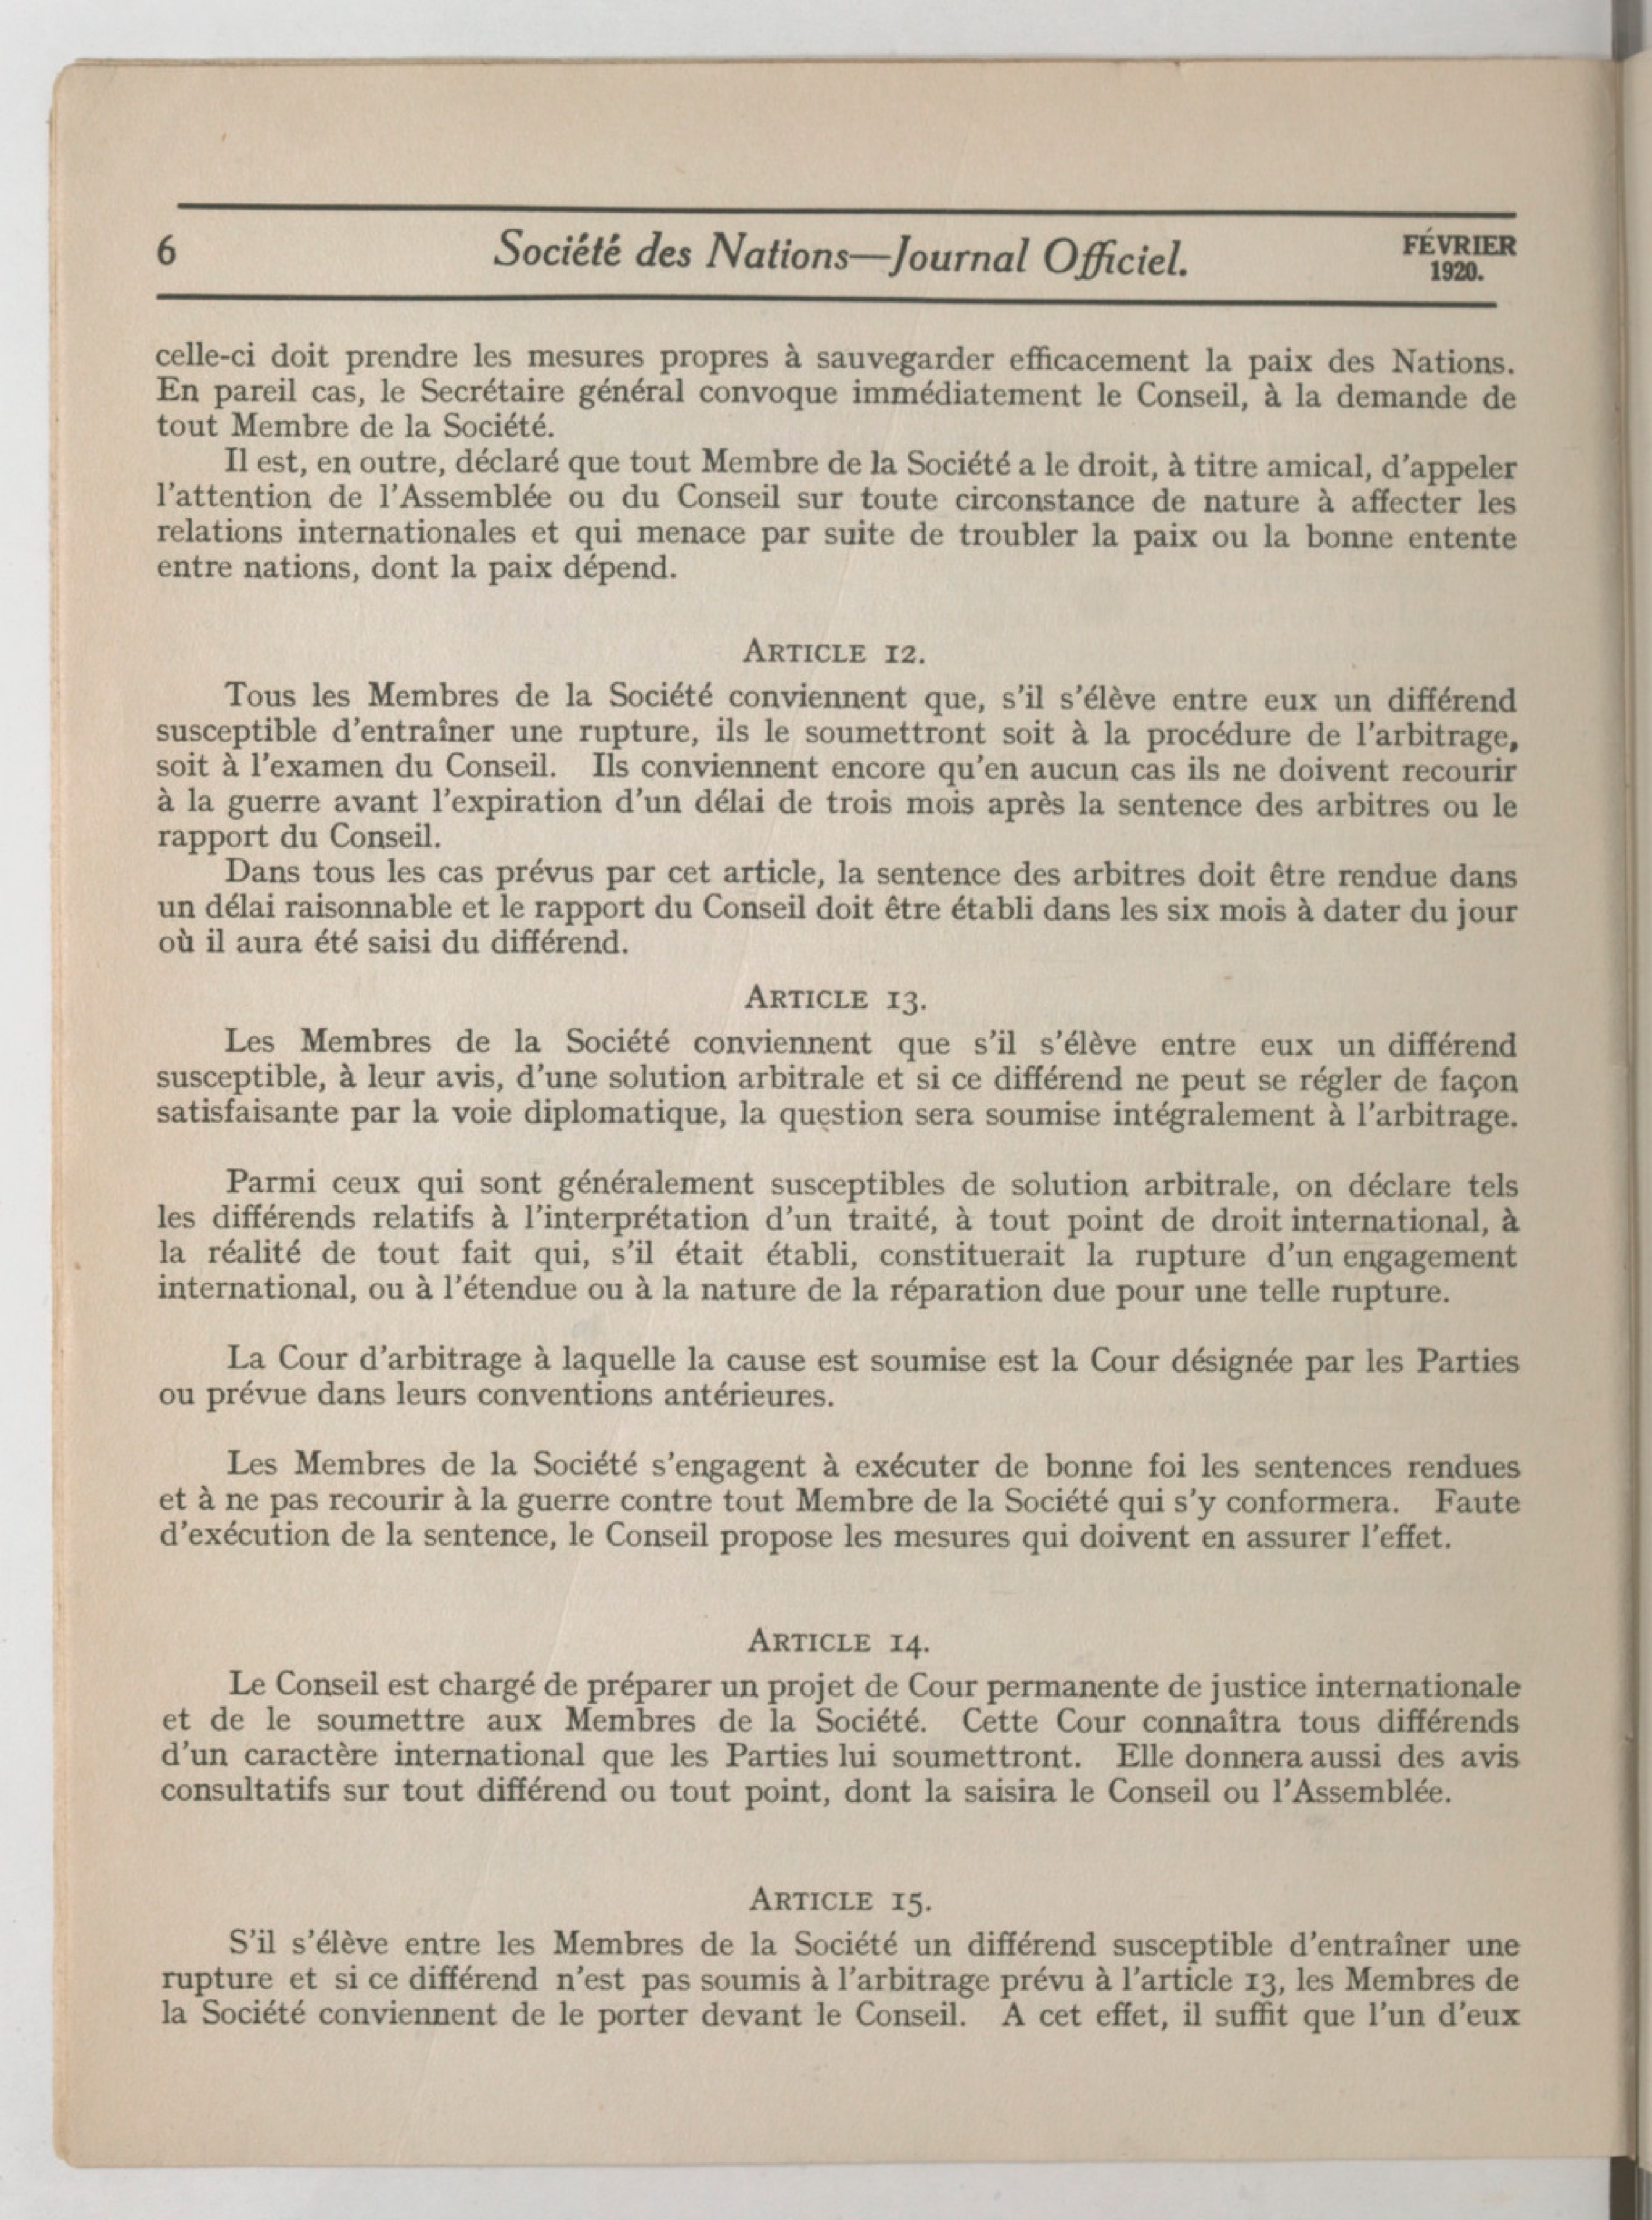MainZone-Continued: (144, 332, 1531, 445)
MainZone-Date: (1394, 224, 1524, 290)
MainZone-Head: (736, 973, 936, 1022), (739, 1876, 943, 1923), (734, 628, 936, 676), (738, 1617, 940, 1663)
MainZone-P: (143, 673, 1531, 854), (137, 1659, 1539, 1822), (143, 1162, 1532, 1320), (143, 441, 1532, 595), (141, 1916, 1539, 2050), (139, 1439, 1535, 1570), (145, 1017, 1536, 1144), (146, 852, 1532, 968), (143, 1334, 1537, 1424)
NumberingZone: (149, 224, 186, 279)
RunningTitleZone: (483, 221, 1195, 287)
